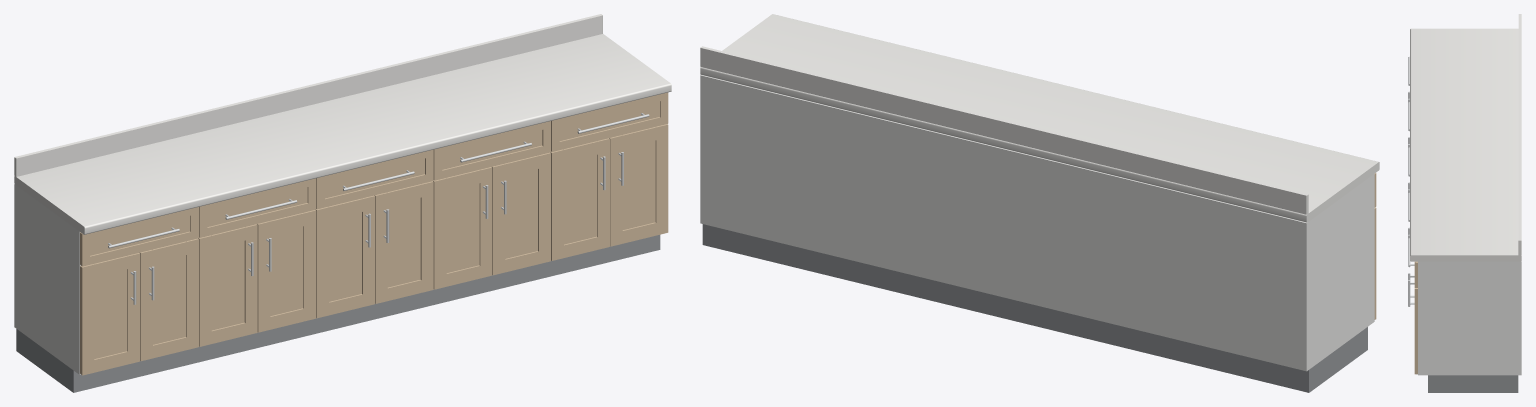
The picture shows the model from 3 angles, left to right: view 1: azimuth 30°, elevation 25°; view 2: azimuth 150°, elevation 25°; view 3: azimuth 270°, elevation 25°; orthographic projection. The views are drawn at different scales.
Visible parts, largest first — view 1: Tủ bếp dưới Dài=3000; Sâu=580; view 2: Tủ bếp dưới Dài=3000; Sâu=580; view 3: Tủ bếp dưới Dài=3000; Sâu=580.
Part boxes in pixels (<box>): Tủ bếp dưới Dài=3000; Sâu=580: <box>14,14,671,392</box>; Tủ bếp dưới Dài=3000; Sâu=580: <box>700,14,1379,392</box>; Tủ bếp dưới Dài=3000; Sâu=580: <box>1408,14,1521,392</box>.
Size of the model in its own units: 3 by 0.94 by 0.635.
